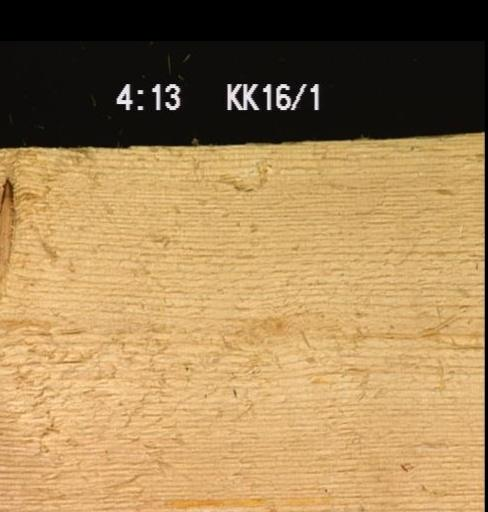split: (44, 358, 82, 364)
